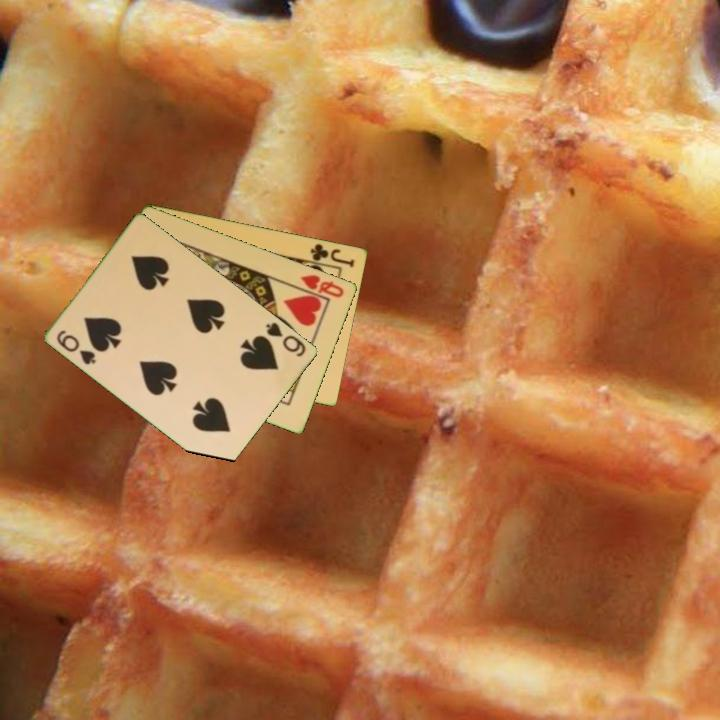6s: (262, 318, 309, 360), (53, 326, 99, 368)
Jc: (307, 240, 358, 270)
Qh: (292, 271, 347, 302)
